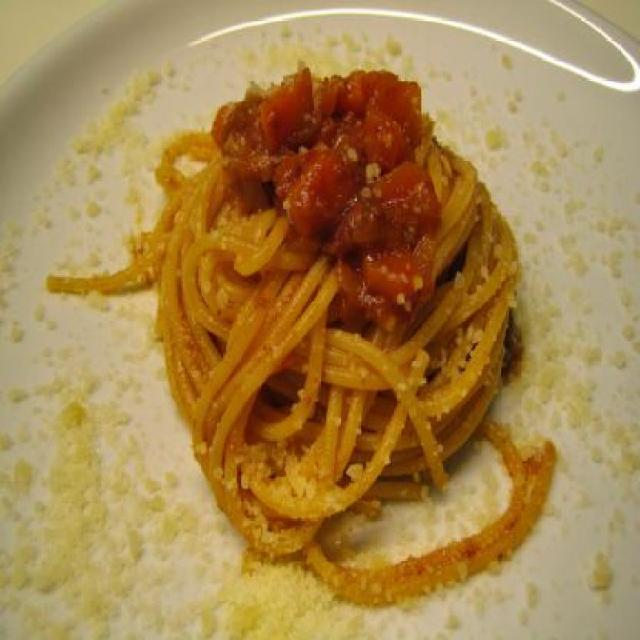Pasta al ragu: (122, 24, 596, 578)
